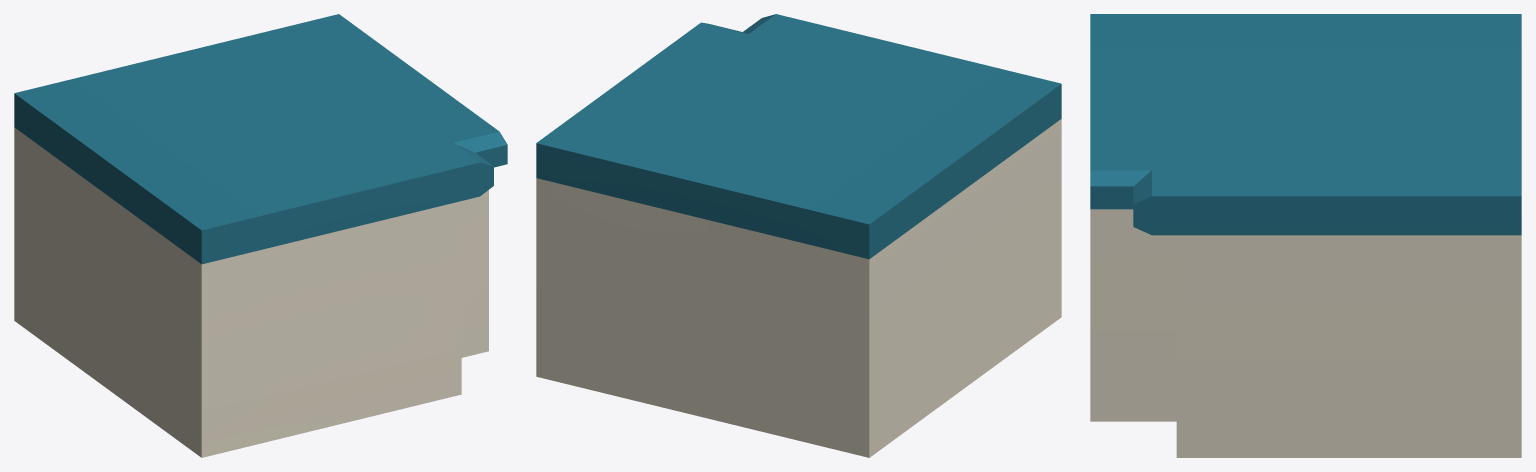
Rendered from cabiner-corner.glb.
The picture shows the model from 3 angles, left to right: view 1: azimuth 30°, elevation 25°; view 2: azimuth 150°, elevation 25°; view 3: azimuth 270°, elevation 25°; orthographic projection. The views are drawn at different scales.
Visible parts, largest first — view 1: CabinerCorner.001; view 2: CabinerCorner.001; view 3: CabinerCorner.001.
Boxes of the visible parts, box(x1,y1,x2,y2) form: CabinerCorner.001: box(14, 14, 507, 457); CabinerCorner.001: box(536, 14, 1061, 457); CabinerCorner.001: box(1090, 14, 1521, 457).
Size of the model in its own units: 1 by 0.6696 by 1.
Materials: 1 (1 with a texture image).
